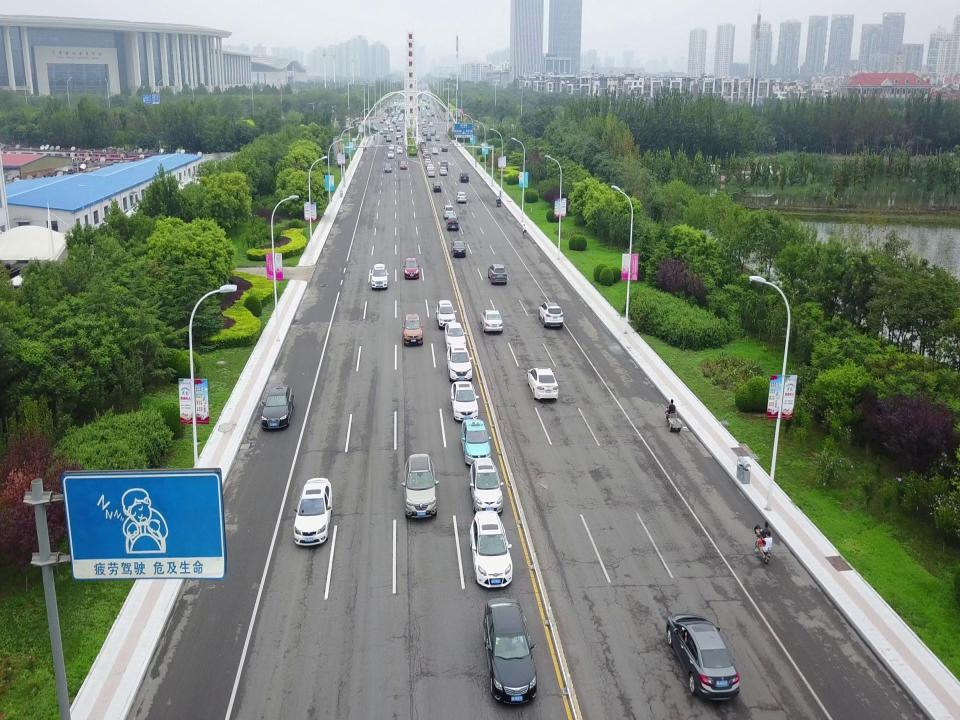car: (667, 613, 739, 702), (483, 598, 536, 704), (470, 511, 514, 590), (294, 478, 332, 546), (403, 455, 438, 518), (468, 457, 503, 516), (461, 419, 491, 467), (262, 386, 294, 430), (450, 381, 478, 423), (527, 367, 559, 402), (447, 343, 471, 384), (538, 302, 564, 328), (403, 314, 423, 346), (444, 322, 466, 351), (436, 300, 456, 329), (482, 310, 504, 332), (371, 263, 388, 289), (489, 263, 508, 284), (403, 258, 419, 279), (445, 215, 460, 232), (452, 241, 466, 258), (456, 192, 466, 204), (459, 172, 469, 183), (432, 182, 442, 192), (439, 166, 447, 177), (384, 163, 392, 173), (399, 161, 407, 170), (387, 150, 394, 158), (428, 168, 434, 177), (396, 146, 402, 155), (386, 134, 392, 142), (432, 147, 438, 154), (441, 145, 447, 152), (434, 135, 440, 141), (426, 135, 432, 141), (422, 127, 426, 133), (431, 130, 435, 135), (428, 121, 432, 126), (420, 120, 424, 125), (425, 112, 429, 117), (424, 130, 428, 135), (431, 112, 435, 116), (431, 110, 434, 114), (421, 114, 424, 117)
van: (444, 206, 454, 221)
